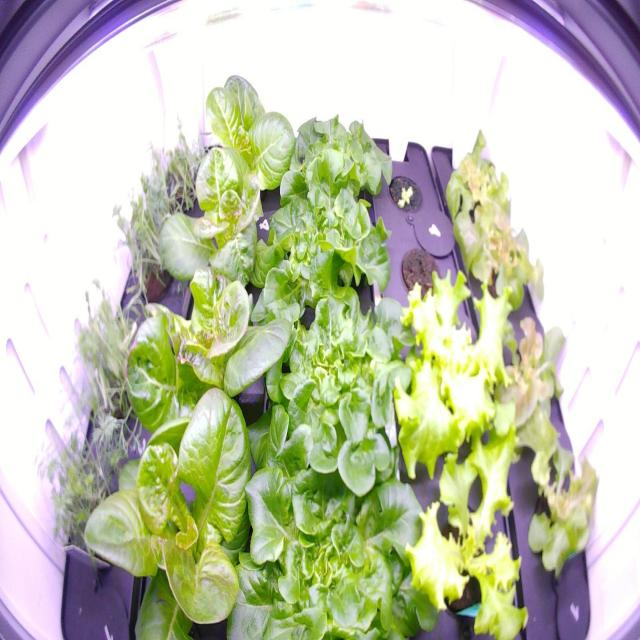pod: (396, 239, 449, 312)
young: (74, 367, 322, 639), (111, 234, 302, 456), (154, 139, 309, 327), (187, 69, 301, 223)
